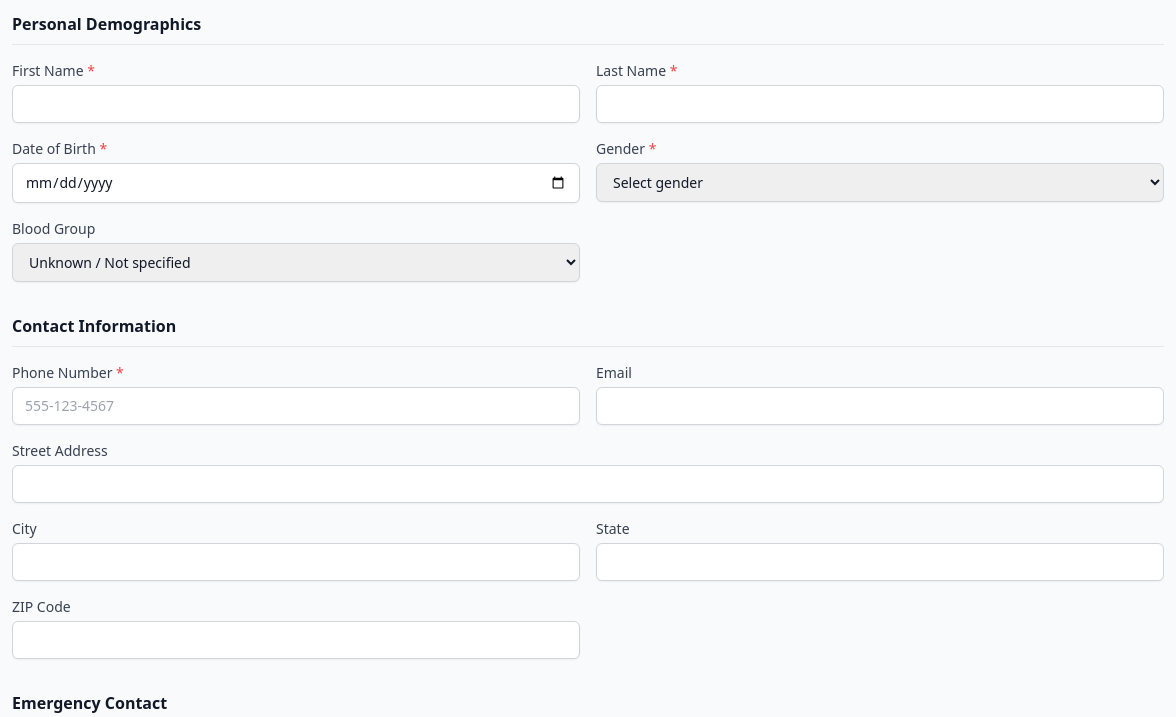
it: PatientRegistrationForm › shows phone error on blur with invalid phone
Type "12345" into the field labelled "Phone Number *". click: {"x": 296, "y": 406}
box: [12,387,580,425]
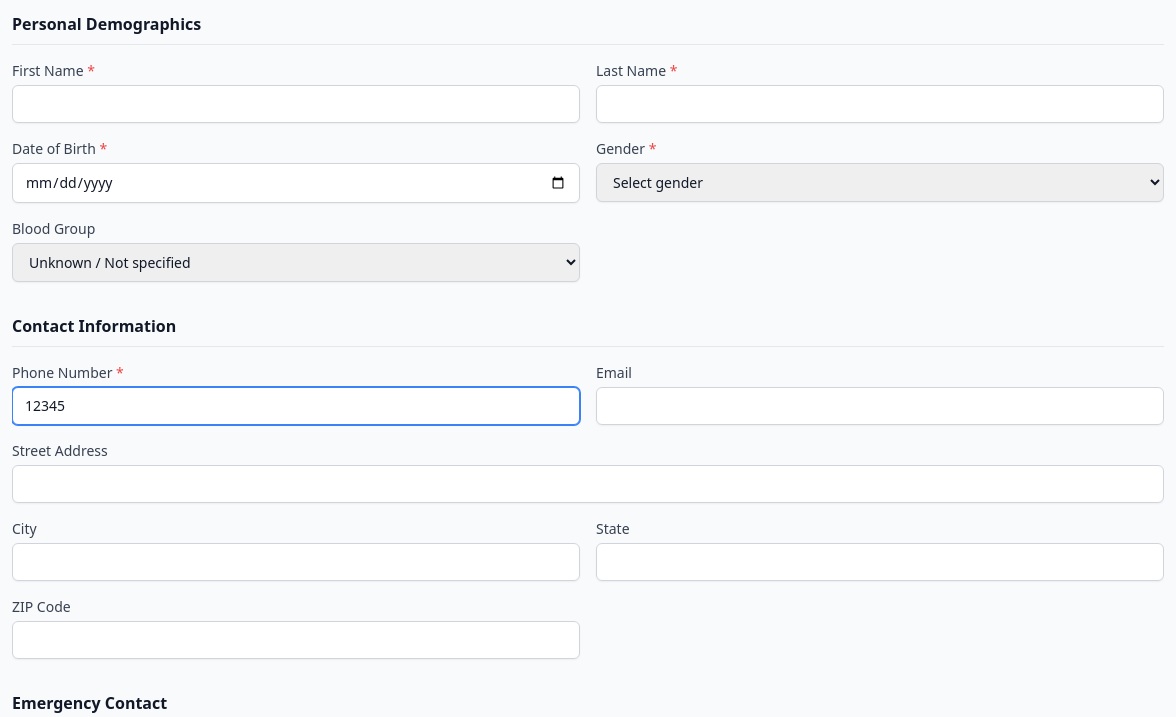
Leave the field labelled "Phone Number *", box [12,387,580,425]
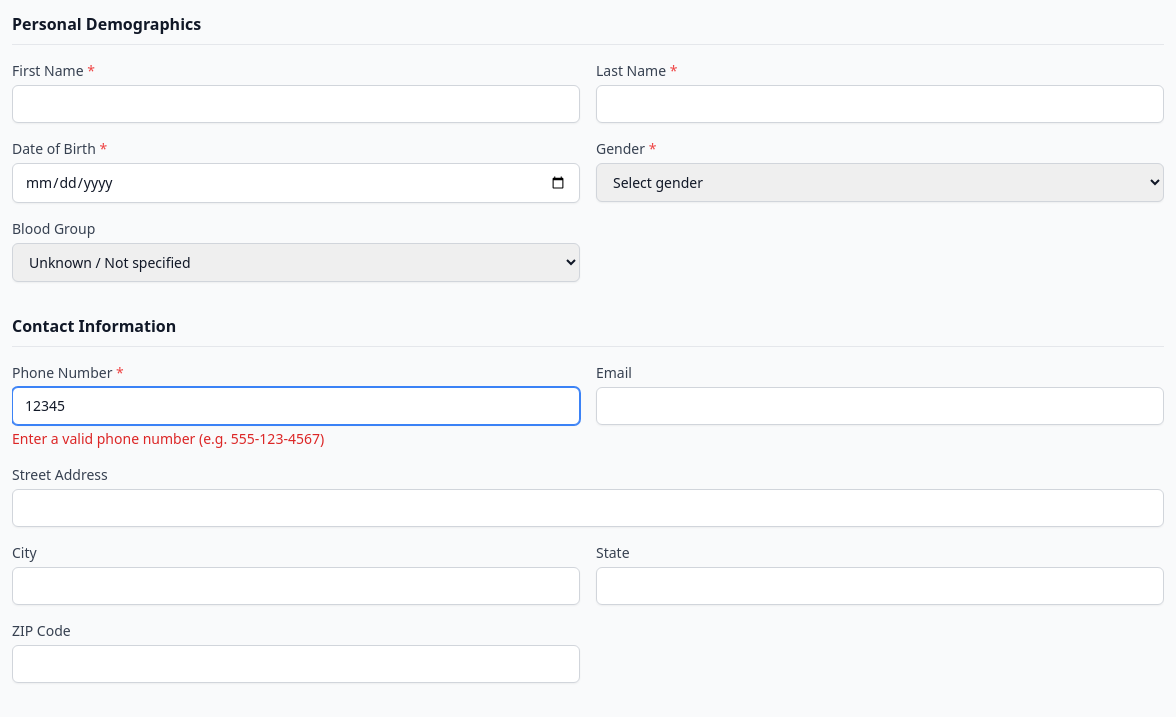
Now the text "Enter a valid phone number (e.g. 555-123-4567)" is shown, box [12,429,324,448]
